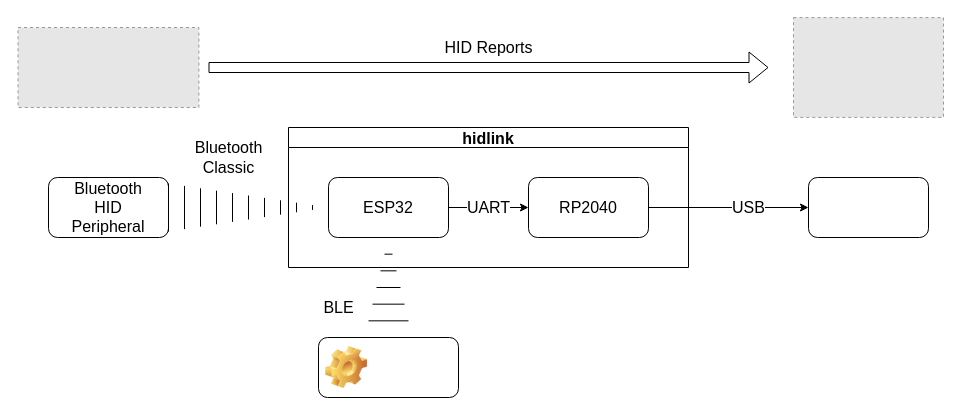
Image size: 961x415. Some labels were removed from this diagram. Grey dashed boxes stand in for pictures. The shapes that lost their labels are listed below. From the top down, each one's box as (x1, y1, x2, y2) in pixels, then its label:
(808, 176, 928, 238): PC Host
(318, 336, 458, 398): Mobile App
